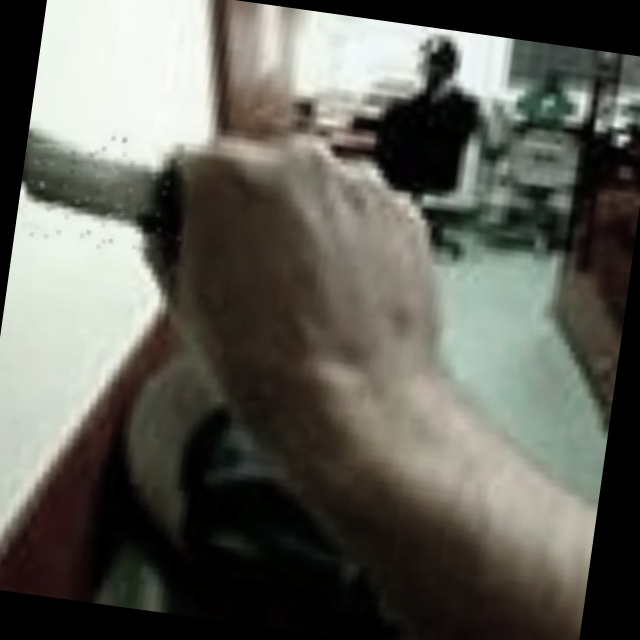Sharp-Object: (18, 126, 192, 260)
